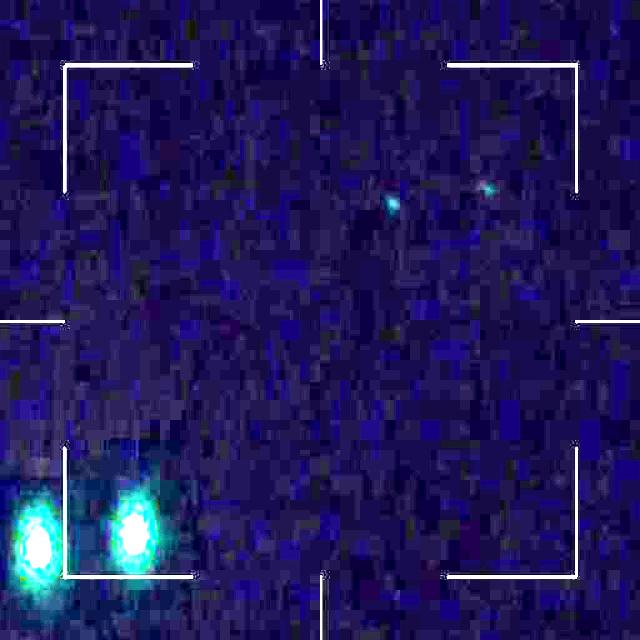bird: (19, 506, 151, 578)
